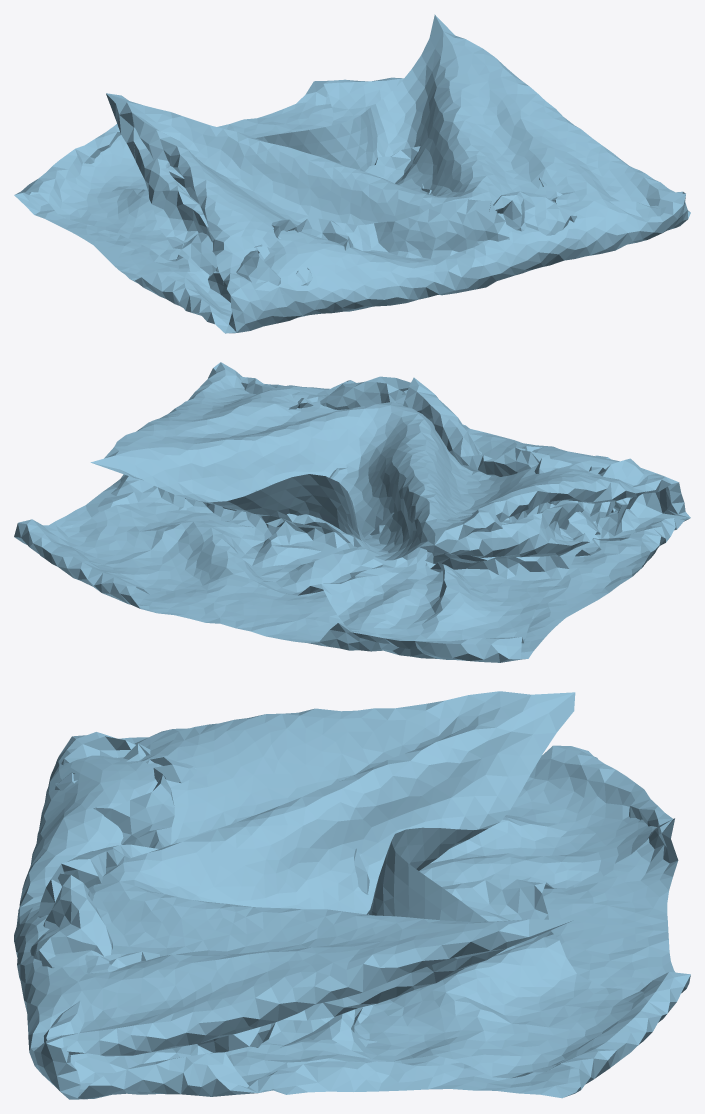
File: frame_18.glb
3 views of the same model, one above another, from view 1: azimuth 30°, elevation 25°; view 2: azimuth 150°, elevation 25°; view 3: azimuth 270°, elevation 25° (orthographic). The views are drawn at different scales.
Visible parts, largest first — view 1: frame_18.obj; view 2: frame_18.obj; view 3: frame_18.obj.
Part boxes in pixels (box(x1,y1,x2,y2)): frame_18.obj: box(14, 14, 690, 333); frame_18.obj: box(14, 362, 690, 662); frame_18.obj: box(14, 691, 690, 1099).
Size of the model in its own units: 1.26 by 0.2491 by 1.06.
